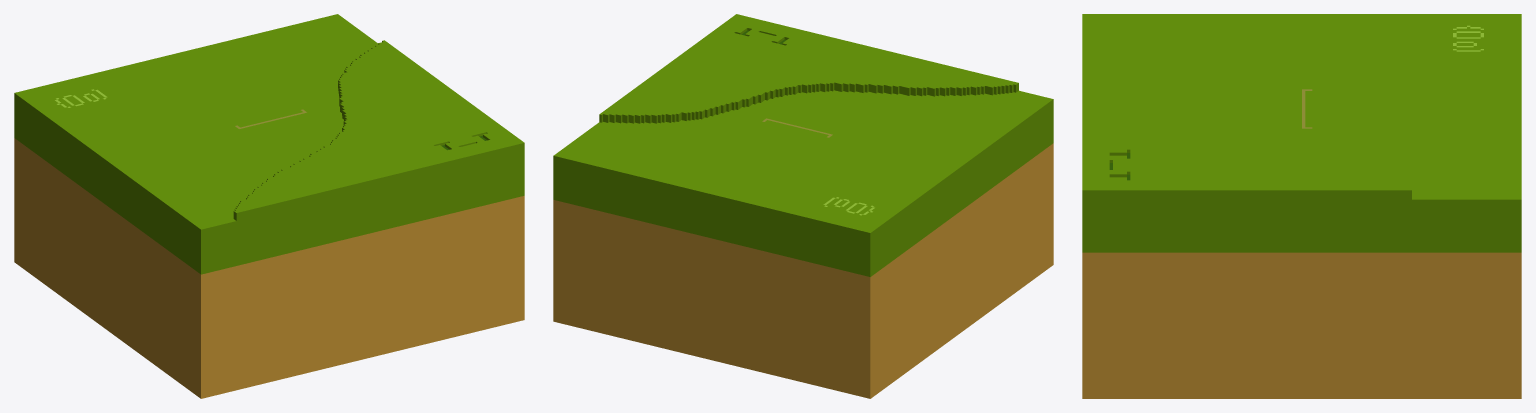
3 renders of one model, left to right at view 1: azimuth 30°, elevation 25°; view 2: azimuth 150°, elevation 25°; view 3: azimuth 270°, elevation 25°, orthographic. The views are drawn at different scales.
Parts seen in each view (by area): view 1: 14G; view 2: 14G; view 3: 14G.
Part boxes in pixels (x1,y1,x2,y2): 14G: [14, 14, 524, 398]; 14G: [553, 14, 1053, 398]; 14G: [1082, 14, 1521, 398].
Size of the model in its own units: 12.8 by 6.7 by 12.8.
1 material, 1 textured.
